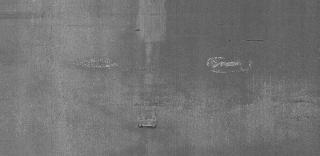rolled pit: (71, 56, 167, 81), (130, 0, 172, 42), (282, 85, 316, 125), (206, 53, 258, 75), (134, 105, 164, 133), (241, 35, 279, 49)
